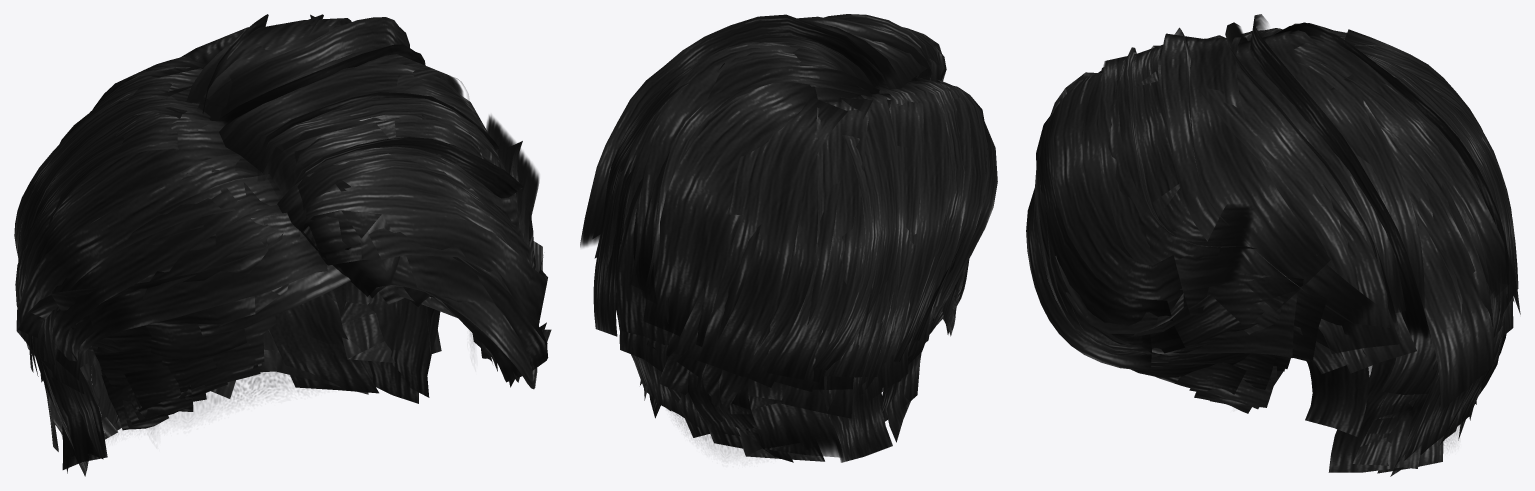
File: diamond_wavy_02 SideSwept.glb
3 renders of one model, left to right at view 1: azimuth 30°, elevation 25°; view 2: azimuth 150°, elevation 25°; view 3: azimuth 270°, elevation 25°, orthographic. The views are drawn at different scales.
Parts seen in each view (by area): view 1: hair07_hair07_0.001, Scalp.023; view 2: hair07_hair07_0.001; view 3: hair07_hair07_0.001.
Boxes of the visible parts, box(x1,y1,x2,y2) form: hair07_hair07_0.001: box(14, 14, 551, 476); Scalp.023: box(87, 159, 473, 436); hair07_hair07_0.001: box(580, 14, 997, 462); hair07_hair07_0.001: box(1026, 14, 1520, 476).
Bounding box in the file's own units: 0.2371 × 0.2494 × 0.2573.
Materials: 2 (2 with a texture image).
